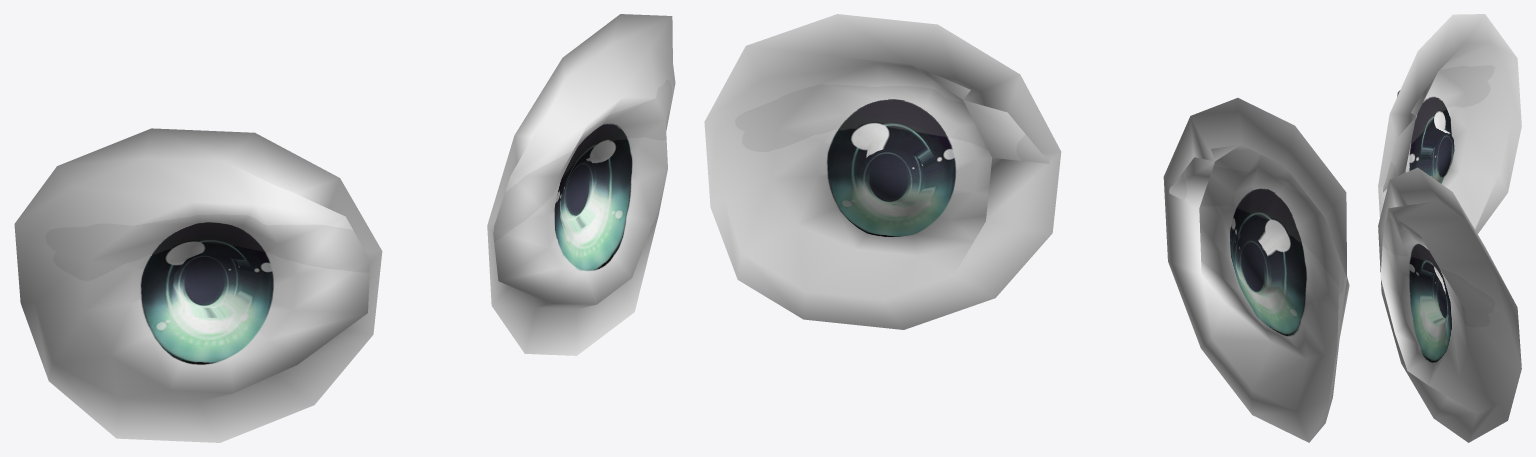
File: Ruhe 1.fbx
The picture shows the model from 3 angles, left to right: view 1: azimuth 30°, elevation 25°; view 2: azimuth 150°, elevation 25°; view 3: azimuth 270°, elevation 25°; orthographic projection. The views are drawn at different scales.
Visible parts, largest first — view 1: Ojos; view 2: Ojos; view 3: Ojos.
Part boxes in pixels (left/top/right/bottom): Ojos: left=14, top=14, right=675, bottom=442; Ojos: left=704, top=14, right=1349, bottom=442; Ojos: left=1378, top=14, right=1521, bottom=442.
Bounding box in the file's own units: 25.13 × 11.64 × 6.13.
Materials: 1 (1 with a texture image).
